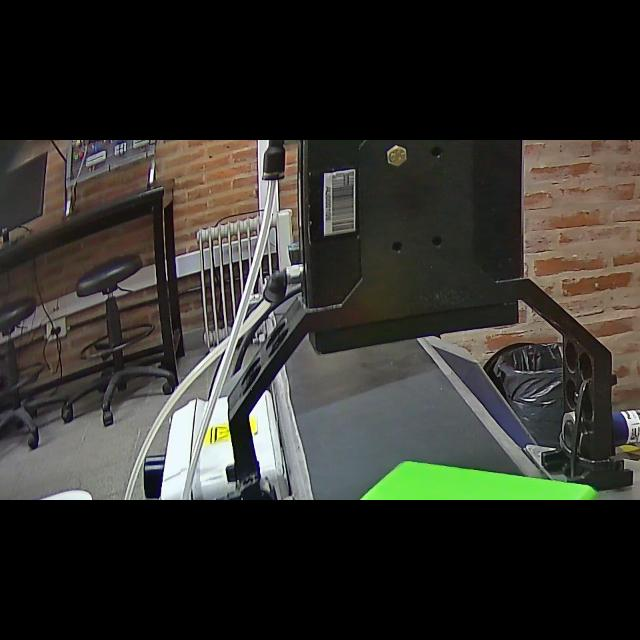greenBox: (346, 454, 616, 500)
